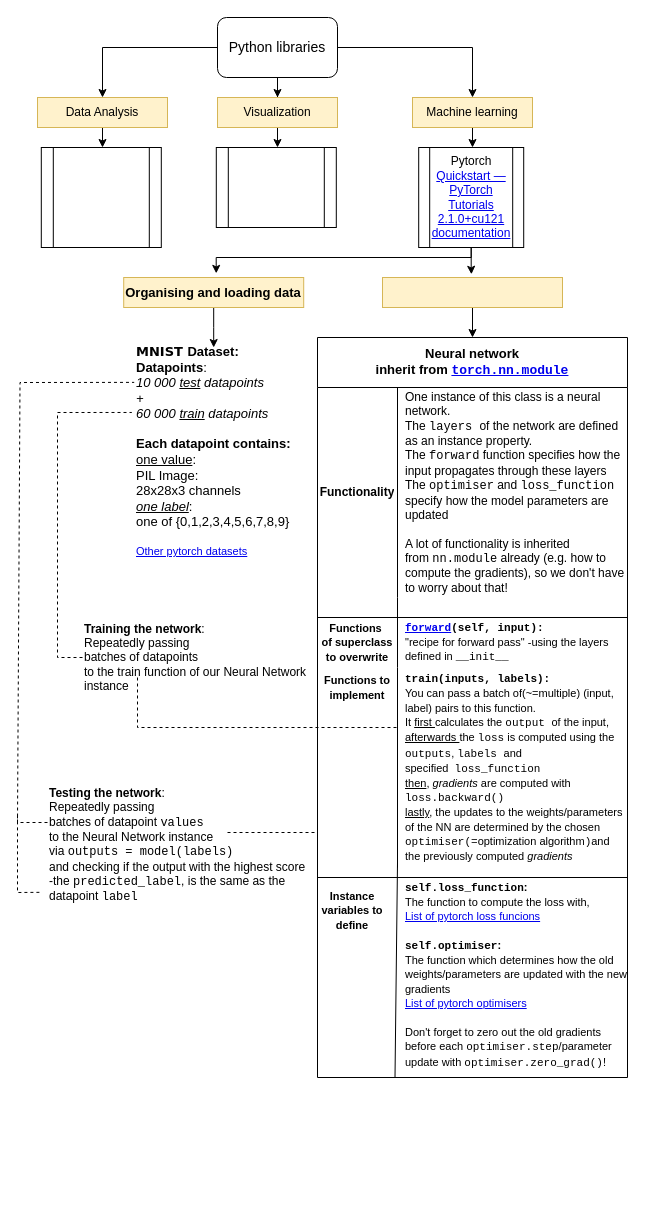
This 646x1225 diagram has some shape labels left out. Each missing label, with the centre of its shape:
"Matplotlib Quick start guide — Matplotlib 3.8.0 documentation" goes at point (275, 187).
"Pandas 10 minutes to pandas — pandas 2.1.1 documentation (pydata.org)" goes at point (100, 197).
"specifying and training the Neural Network" goes at point (472, 292).
